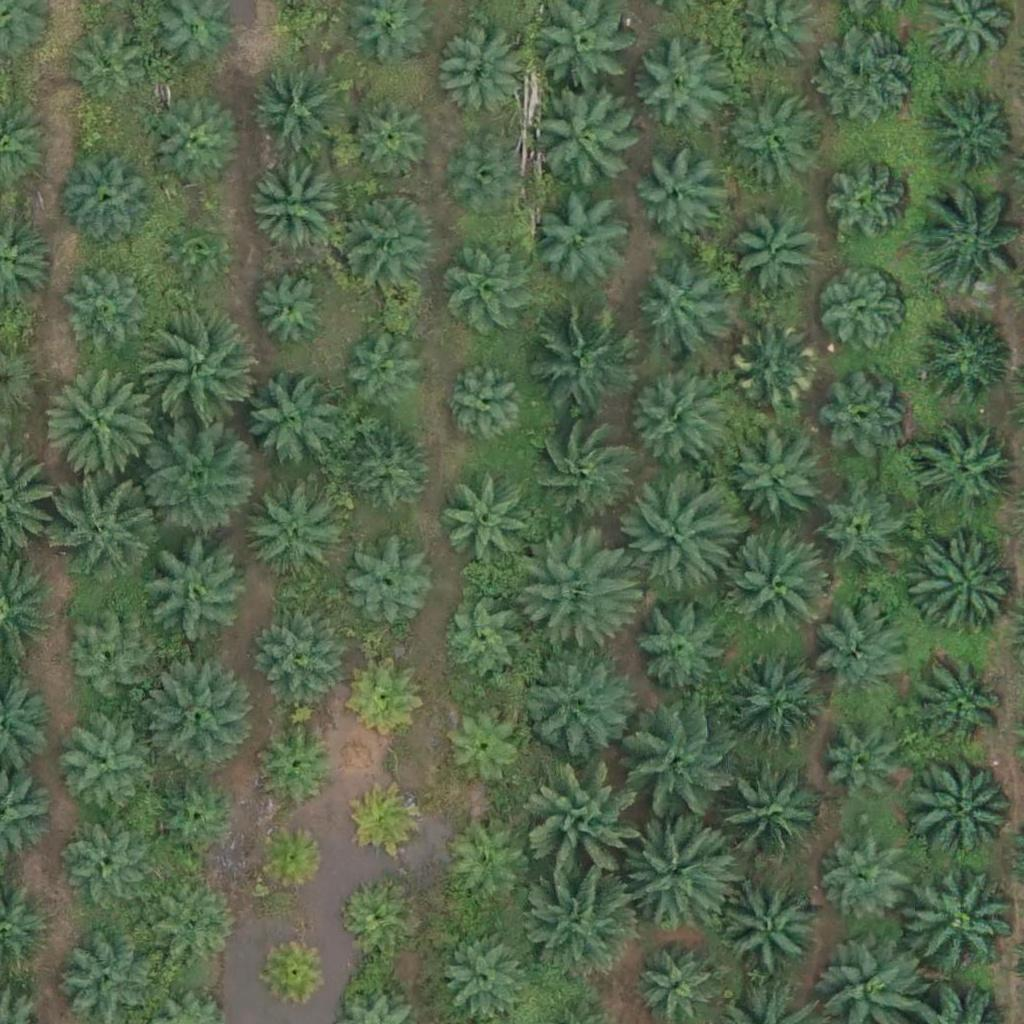Kelapa_Sawit: (710, 762, 823, 876), (527, 85, 640, 199), (903, 864, 1016, 977), (627, 708, 740, 821), (526, 866, 639, 979), (139, 424, 252, 537), (140, 534, 253, 647), (141, 657, 254, 770), (50, 470, 163, 583), (46, 366, 159, 479), (909, 749, 1021, 863), (626, 485, 738, 599), (532, 770, 644, 884), (527, 309, 639, 423), (146, 314, 258, 428), (723, 531, 835, 644), (622, 813, 734, 926), (519, 644, 631, 757), (519, 529, 631, 642), (523, 416, 635, 529), (917, 312, 1017, 413), (913, 424, 1013, 525), (913, 540, 1013, 641), (722, 878, 822, 979), (728, 429, 828, 530), (627, 590, 727, 691), (539, 190, 639, 291), (438, 474, 538, 575), (333, 190, 433, 291), (242, 478, 342, 579), (60, 150, 160, 251), (249, 58, 349, 159), (723, 88, 823, 189), (821, 25, 921, 126), (921, 84, 1021, 185), (915, 656, 1015, 756), (816, 600, 916, 700), (723, 656, 823, 756), (622, 372, 722, 472), (247, 157, 347, 257), (241, 373, 341, 473), (630, 31, 730, 131), (440, 360, 528, 449), (151, 772, 239, 860), (151, 890, 239, 978), (632, 150, 720, 238), (633, 266, 721, 354), (448, 250, 536, 338), (342, 323, 430, 411), (437, 700, 525, 788), (442, 823, 530, 911), (61, 728, 149, 816), (62, 820, 150, 908), (63, 271, 151, 359), (823, 164, 910, 252), (820, 273, 907, 361), (823, 372, 910, 460), (820, 489, 907, 577), (820, 733, 907, 821), (825, 838, 912, 926), (730, 325, 817, 413), (729, 210, 816, 298), (345, 428, 432, 516), (440, 598, 527, 686), (441, 932, 528, 1020), (255, 608, 342, 696), (342, 539, 429, 627), (67, 617, 154, 705), (65, 23, 152, 111), (155, 103, 242, 191), (348, 95, 435, 183), (438, 30, 525, 118), (252, 273, 327, 349), (336, 878, 411, 954), (452, 140, 527, 216), (258, 931, 333, 1007), (351, 782, 426, 858), (261, 724, 336, 799), (253, 821, 328, 896), (351, 660, 426, 735), (163, 217, 225, 280)
